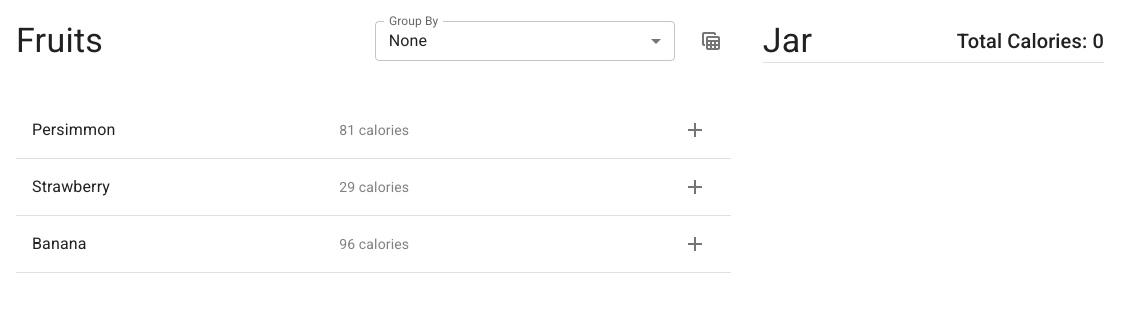
Test: Application › switch to table or list view
Check: the field labelled "Switch to list view" is not shown
Check: the text "Persimmon" is shown, box [32,120,115,139]
Click the button named "Switch to table view" at {"x": 711, "y": 41}, box [691,21,731,61]
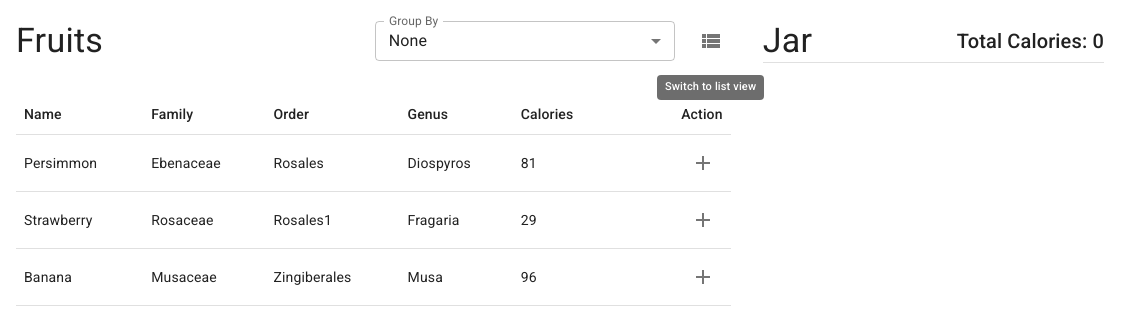
Check: the button named "Switch to list view" is shown
Check: the column heading "Name" is shown, box [16,94,143,134]
Check: the column heading "Family" is shown, box [143,94,266,134]
Click the button named "Switch to list view" at {"x": 711, "y": 41}, box [691,21,731,61]
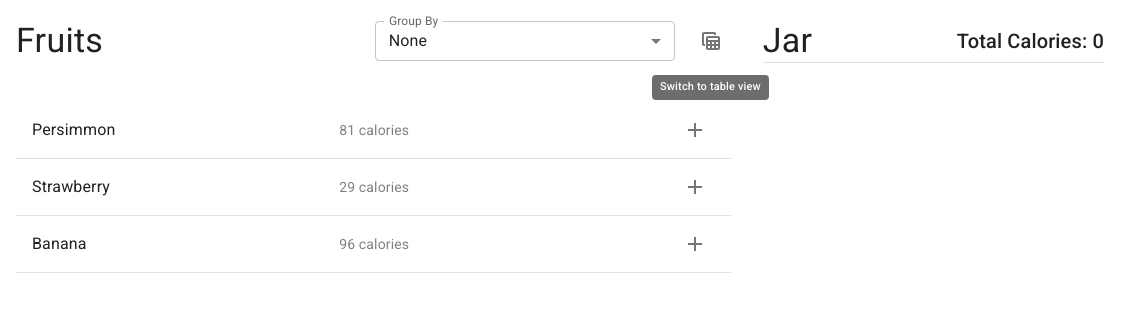
Check: the text labelled "Switch to list view" is gone
Check: the button named "Switch to table view" is shown, box [691,21,731,61]
